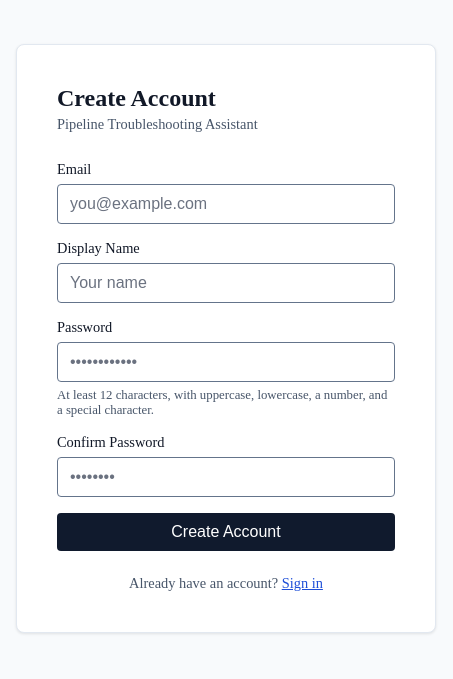
Test case: RegisterPage validation › shows error when passwords do not match
The image size is (453, 679).
Type "user@example.com" into the field labelled "Email" at x=226, y=204, box top-left (57, 184), bottom-right (395, 224)
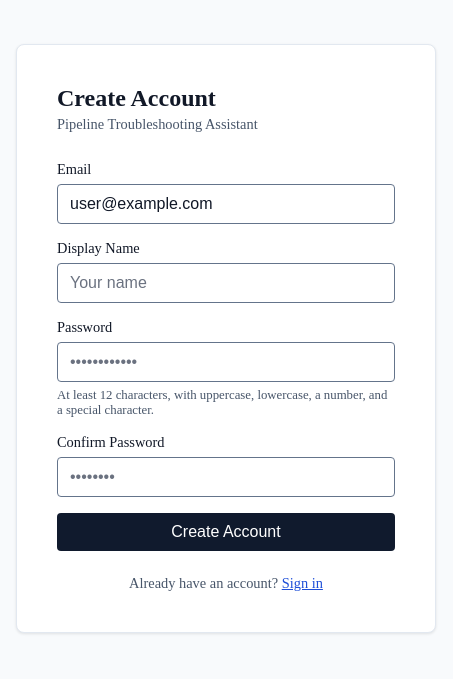
Type "Test User" into the field labelled "Display Name" at x=226, y=282, box top-left (57, 262), bottom-right (395, 302)
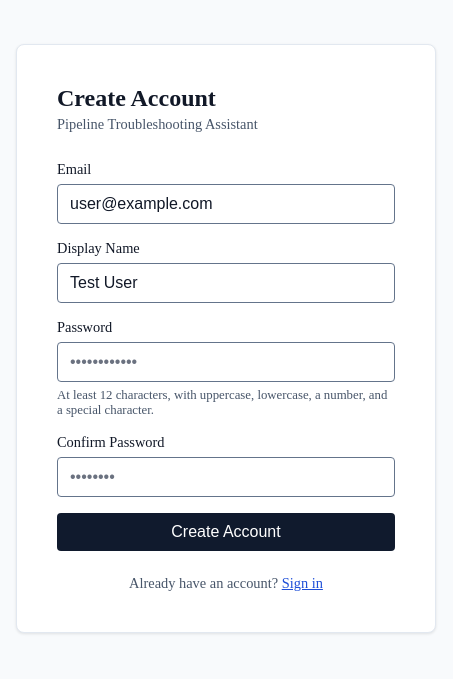
Type "Password1!" into the password field labelled "Password" at x=226, y=362, box top-left (57, 342), bottom-right (395, 382)
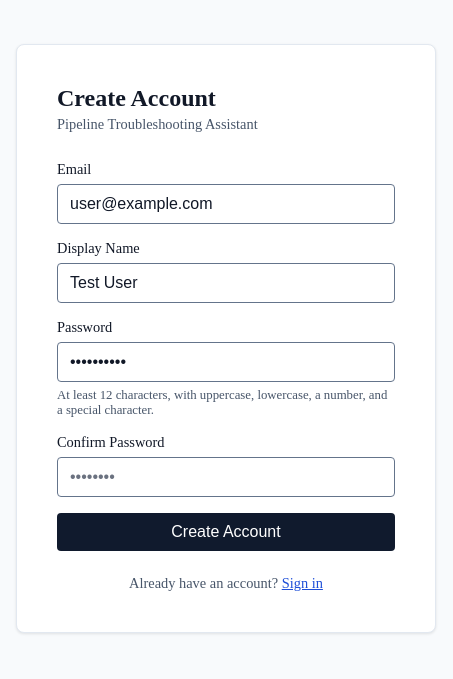
Type "Different1!" into the password field labelled "Confirm Password" at x=226, y=476, box top-left (57, 456), bottom-right (395, 496)
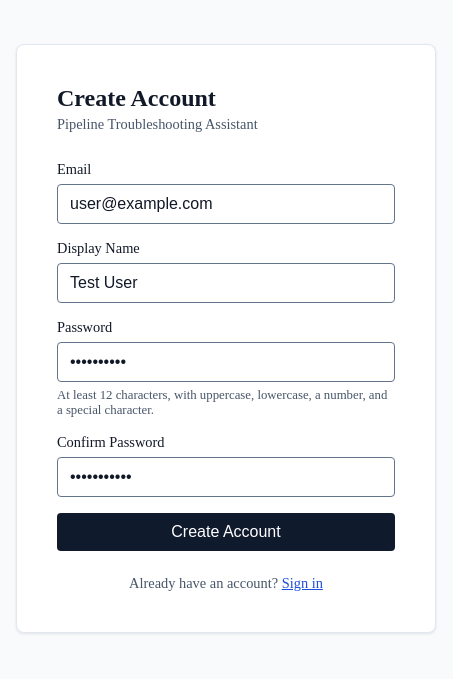
Click the button "Create Account" at x=226, y=532, box top-left (57, 512), bottom-right (395, 550)
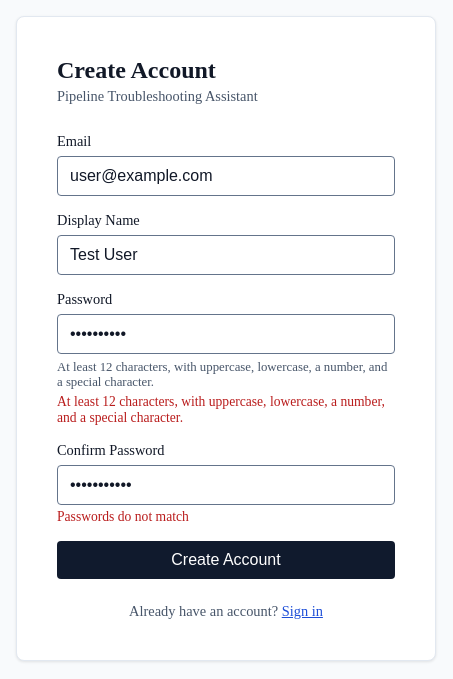
Expected: the text "Passwords do not match" is shown, top-left (57, 508), bottom-right (189, 524)
